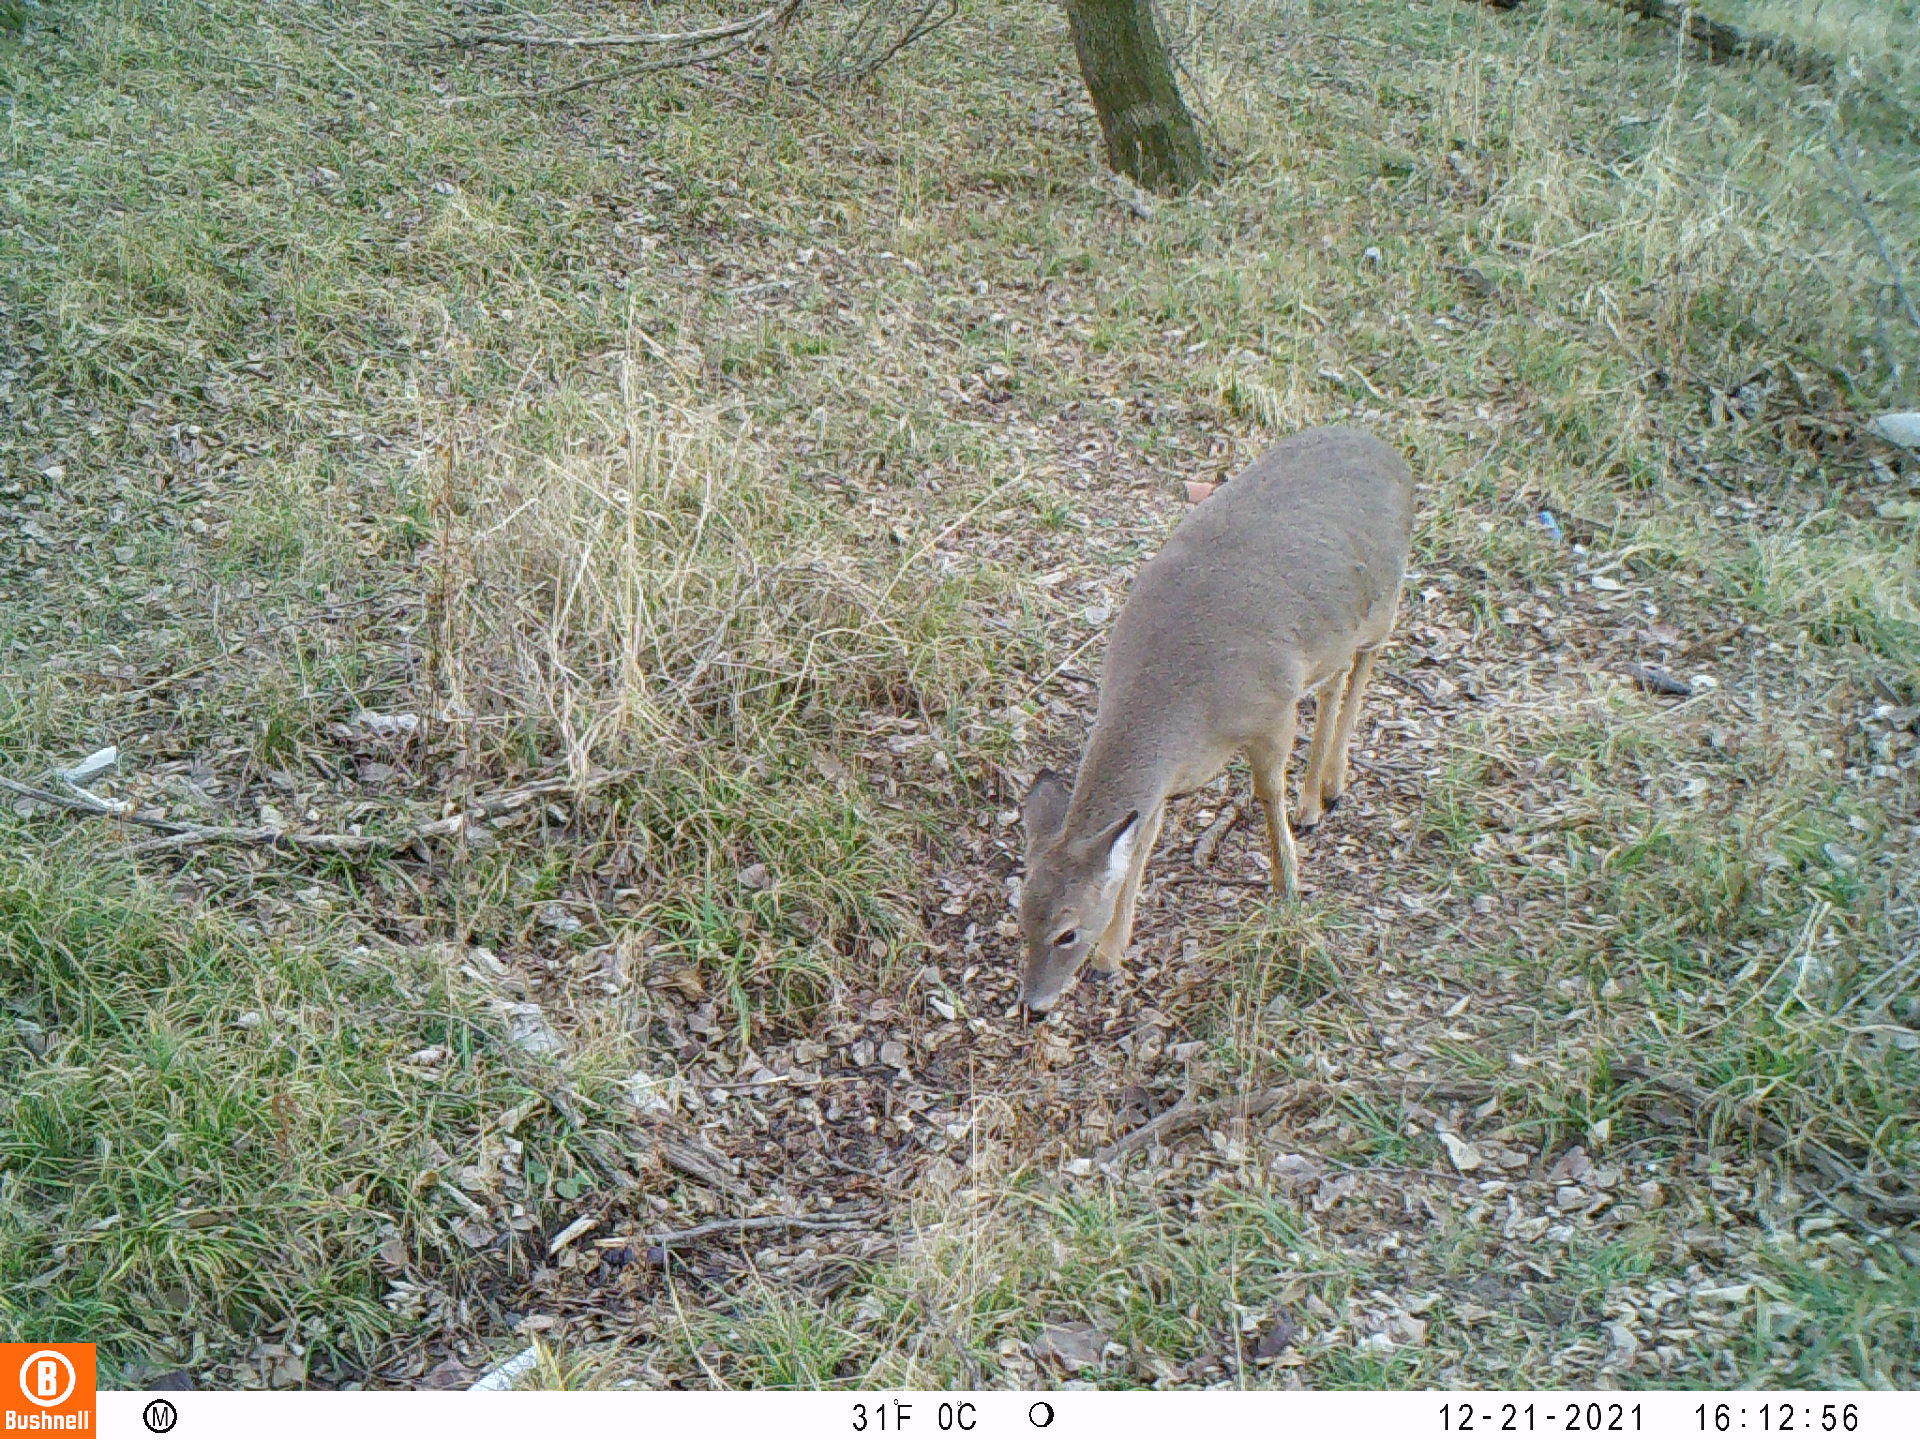DeerDoe: (1014, 421, 1415, 1026)
